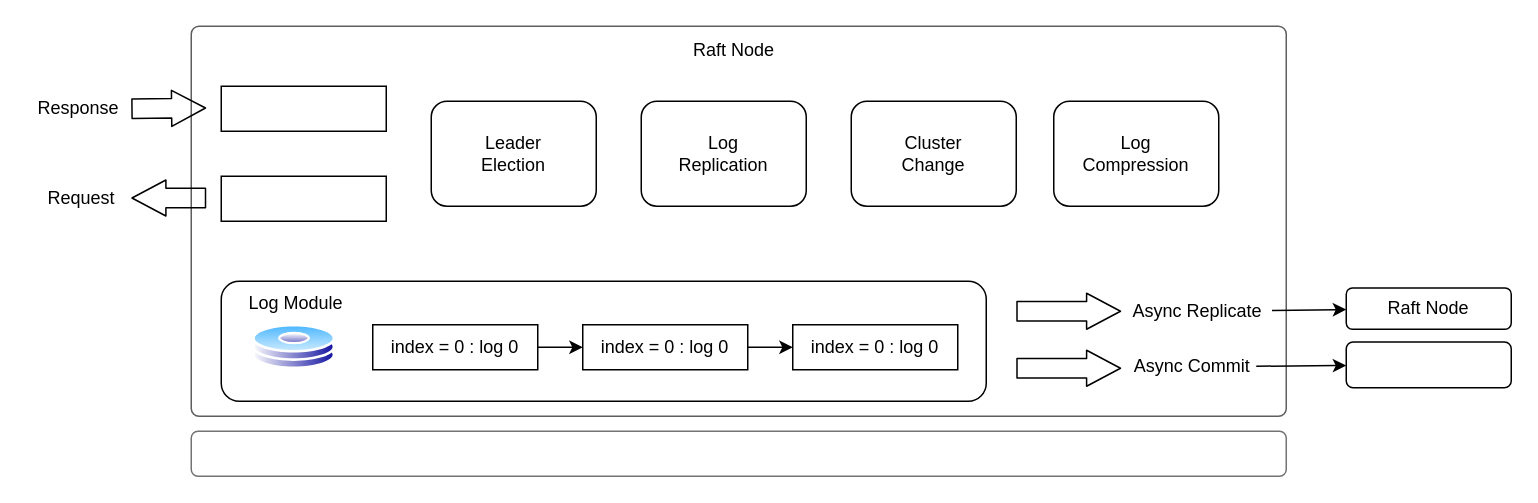
The diagram is 1538 pixels wide and 503 high, and some of its shapes have lost their labels. Here are the shapes that lost their labels. From the top down, the centre of each, then its label:
[303,108]: Raft RPC Server
[303,198]: Raft RPC Client
[1428,364]: Rocks DB
[738,453]: Cluster Manager
